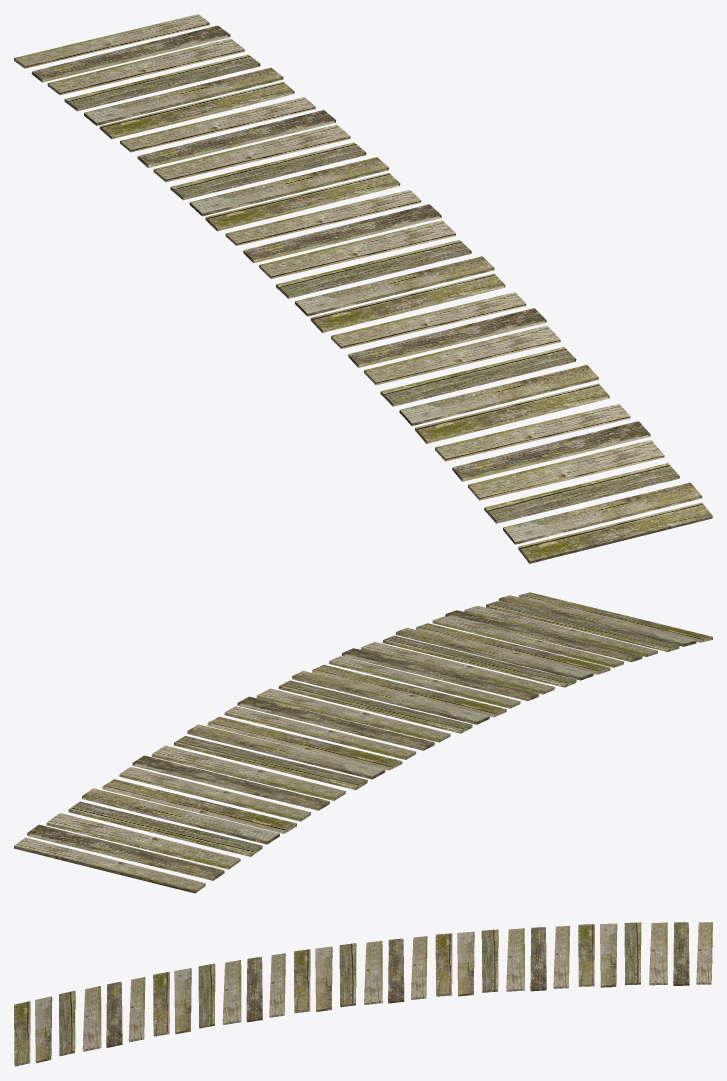
The model's file is 003_colider.fbx.
The picture shows the model from 3 angles, top to bottom: view 1: azimuth 30°, elevation 25°; view 2: azimuth 150°, elevation 25°; view 3: azimuth 270°, elevation 25°; orthographic projection. The views are drawn at different scales.
Parts seen in each view (by area): view 1: ramp_003; view 2: ramp_003; view 3: ramp_003.
Part boxes in pixels (x1,y1,x2,y2): ramp_003: [14, 14, 712, 563]; ramp_003: [14, 592, 712, 893]; ramp_003: [14, 922, 712, 1066].
Size of the model in its own units: 206 by 131 by 977.
